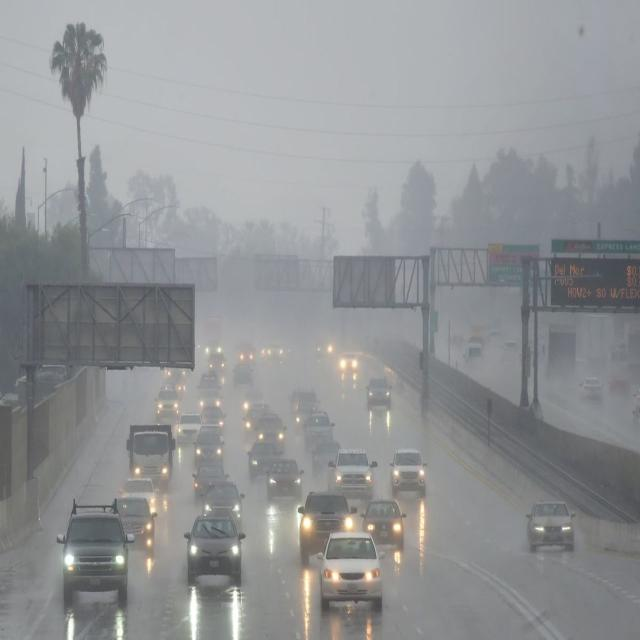bus: (127, 428, 175, 492), (542, 326, 576, 381)
car: (61, 508, 130, 607), (317, 530, 383, 610), (185, 512, 244, 588), (298, 490, 356, 567), (526, 500, 575, 553), (363, 500, 405, 554), (328, 448, 378, 492), (115, 494, 155, 542), (389, 447, 427, 495), (201, 482, 245, 523), (266, 464, 303, 500), (248, 444, 282, 476), (303, 414, 337, 445), (192, 464, 228, 493), (366, 374, 392, 410), (128, 472, 154, 508), (254, 417, 288, 444), (192, 434, 224, 460), (153, 390, 179, 422), (178, 410, 202, 442), (290, 389, 322, 413), (200, 406, 227, 434), (579, 375, 603, 402), (195, 378, 223, 400), (311, 444, 333, 470), (243, 410, 266, 433), (232, 364, 254, 387), (462, 346, 484, 368), (207, 351, 227, 375), (338, 351, 358, 372), (500, 342, 520, 359)
